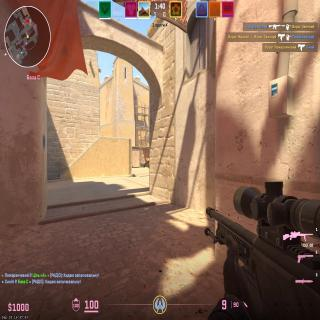T-Body: (144, 156, 149, 169)
T-Head: (146, 156, 148, 158)
